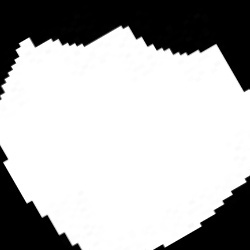spot: (2, 25, 248, 249)
